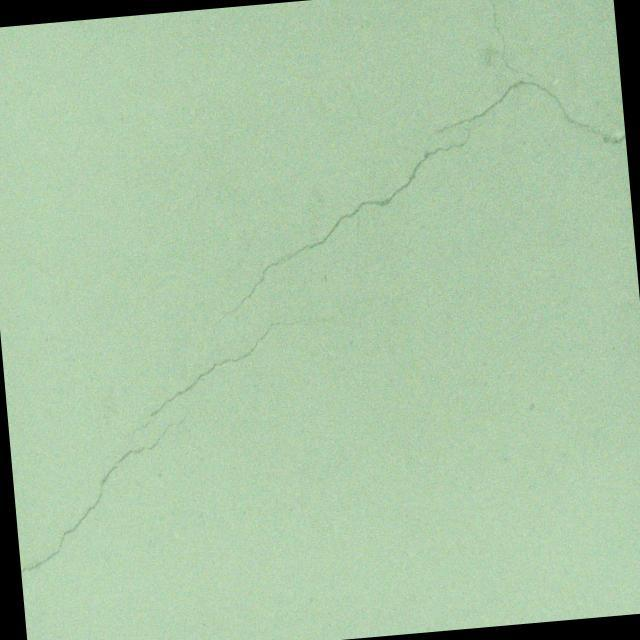crack: (171, 0, 640, 347), (123, 297, 380, 435), (7, 401, 208, 572)
